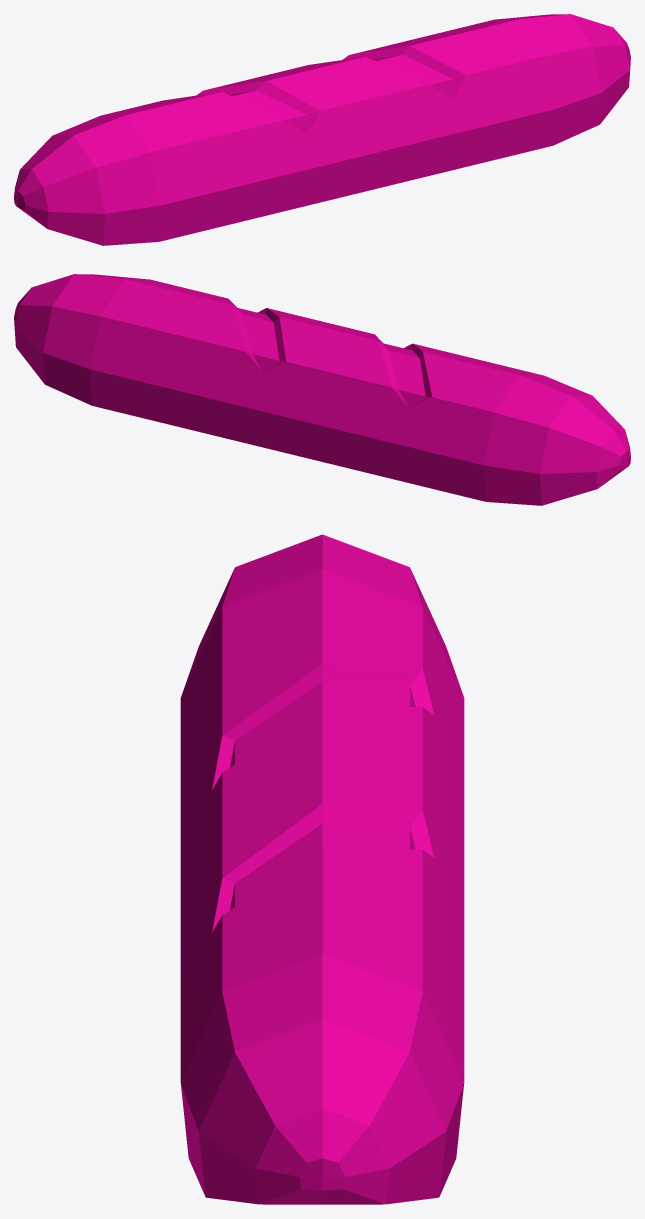
Rendered from Baguette_01.fbx.
3 renders of one model, top to bottom at view 1: azimuth 30°, elevation 25°; view 2: azimuth 150°, elevation 25°; view 3: azimuth 270°, elevation 25°, orthographic. The views are drawn at different scales.
Visible parts, largest first — view 1: Baguette_01; view 2: Baguette_01; view 3: Baguette_01.
Boxes of the visible parts, bbox=[...] form: Baguette_01: bbox=[14, 14, 630, 245]; Baguette_01: bbox=[14, 274, 630, 505]; Baguette_01: bbox=[180, 534, 464, 1204].
Size of the model in its own units: 14.66 by 2.35 by 2.96.
